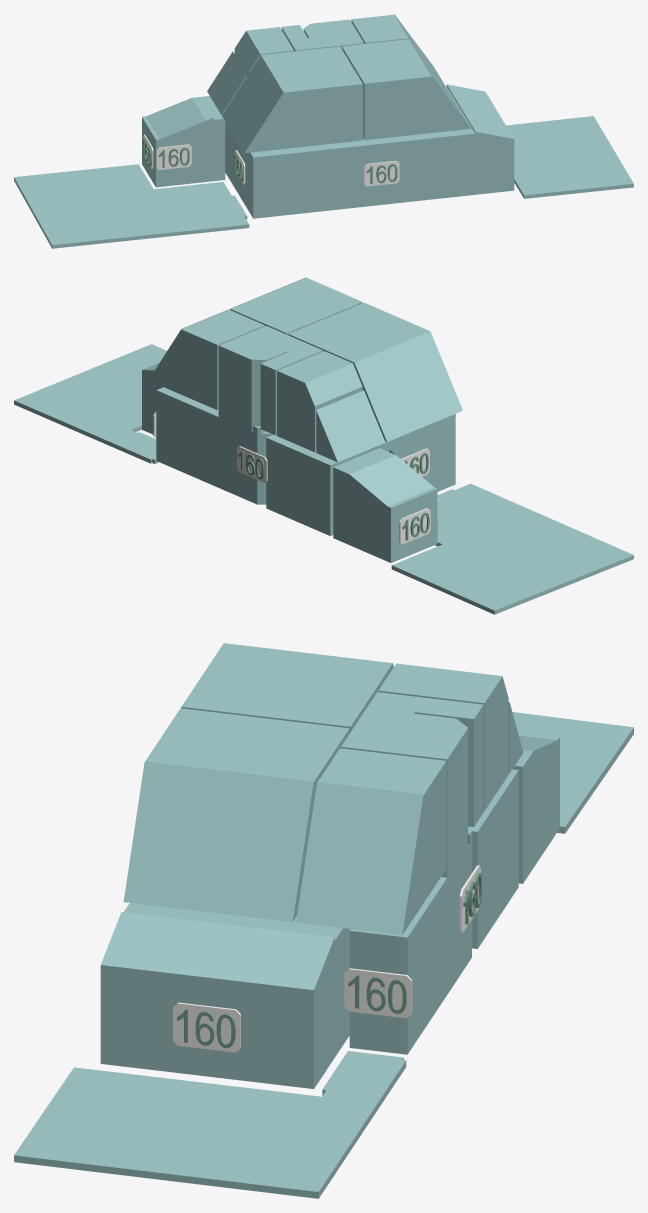
3 views of the same model, one above another, from view 1: azimuth 30°, elevation 25°; view 2: azimuth 150°, elevation 25°; view 3: azimuth 270°, elevation 25° (orthographic). The views are drawn at different scales.
Visible parts, largest first — view 1: g_14, g_1, g_7, g_8, g_13, g_0, g_5, g_6, g_9, g_10, g_12, g_34 (+2 smaller); view 2: g_14, g_7, g_5, g_13, g_0, g_6, g_9, g_4, g_8, g_11, g_12, g_2 (+4 smaller); view 3: g_1, g_13, g_8, g_9, g_7, g_4, g_10, g_6, g_14, g_0, g_5, g_11 (+3 smaller).
Boxes of the visible parts, <box> form: g_14: <box>14,164,249,248</box>; g_1: <box>328,84,514,210</box>; g_7: <box>222,46,362,153</box>; g_8: <box>342,39,470,140</box>; g_13: <box>506,116,633,198</box>; g_0: <box>225,122,331,218</box>; g_5: <box>142,96,225,187</box>; g_6: <box>234,27,293,75</box>; g_9: <box>351,14,447,89</box>; g_10: <box>281,25,363,51</box>; g_12: <box>207,51,246,114</box>; g_34: <box>156,144,191,170</box>; g_14: <box>391,483,633,614</box>; g_7: <box>288,302,462,441</box>; g_5: <box>333,448,437,562</box>; g_13: <box>14,344,166,463</box>; g_0: <box>266,414,455,535</box>; g_6: <box>277,351,362,452</box>; g_9: <box>148,309,264,409</box>; g_4: <box>156,387,218,486</box>; g_8: <box>230,277,362,334</box>; g_11: <box>218,338,285,425</box>; g_12: <box>316,390,385,462</box>; g_2: <box>216,411,272,504</box>; g_1: <box>100,903,350,1088</box>; g_13: <box>14,1051,406,1198</box>; g_8: <box>123,708,349,921</box>; g_9: <box>296,748,446,934</box>; g_7: <box>181,643,393,733</box>; g_4: <box>349,879,445,1054</box>; g_10: <box>341,692,483,826</box>; g_6: <box>378,663,508,811</box>; g_14: <box>512,712,633,833</box>; g_0: <box>468,769,518,948</box>; g_5: <box>513,732,559,883</box>; g_11: <box>402,713,468,867</box>.
Size of the model in its own units: 23.72 by 5.36 by 12.35.
